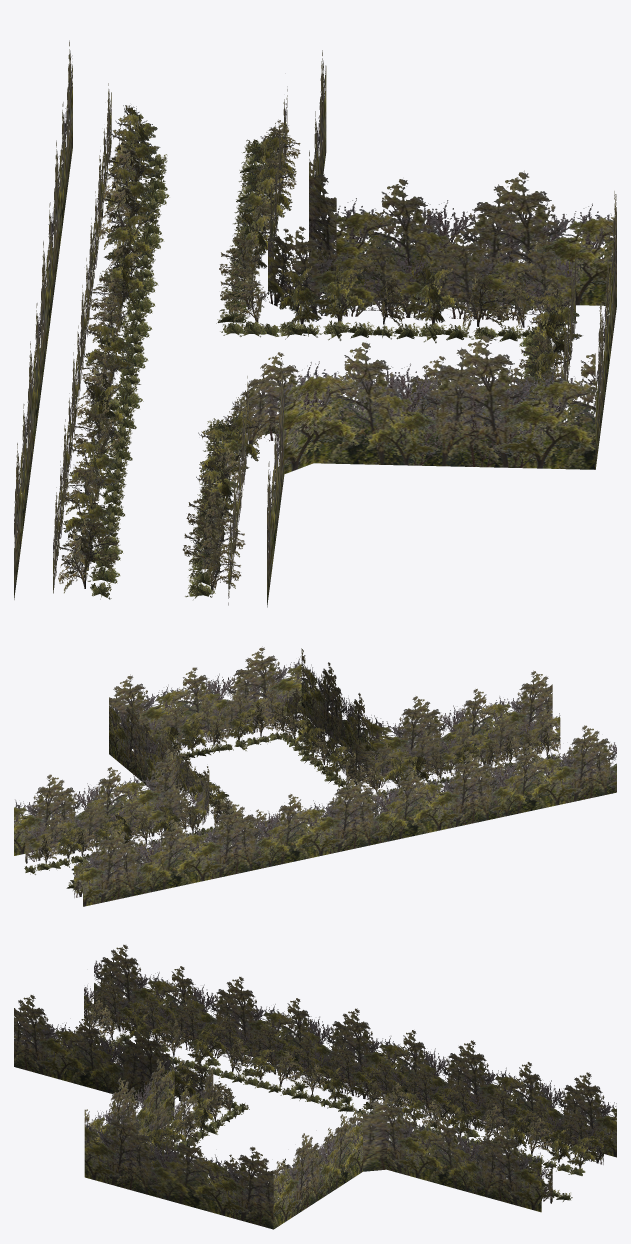
File: scene_transparent.gltf
The picture shows the model from 3 angles, top to bottom: view 1: azimuth 30°, elevation 25°; view 2: azimuth 150°, elevation 25°; view 3: azimuth 270°, elevation 25°; orthographic projection. The views are drawn at different scales.
Visible parts, largest first — view 1: Trees_004_Tree_0.045, Trees_004_Tree_0.046, Trees_004_Tree_0.043, Trees_004_Tree_0.001, Trees_004_Tree_0.044; view 2: Trees_004_Tree_0.045, Trees_004_Tree_0.046, Trees_004_Tree_0.043, Trees_004_Tree_0.001, Trees_004_Tree_0.044; view 3: Trees_004_Tree_0.045, Trees_004_Tree_0.046, Trees_004_Tree_0.043, Trees_004_Tree_0.001, Trees_004_Tree_0.044.
Part boxes in pixels (<box>): Trees_004_Tree_0.045: <box>14,40,616,607</box>; Trees_004_Tree_0.046: <box>53,83,575,605</box>; Trees_004_Tree_0.043: <box>58,119,576,594</box>; Trees_004_Tree_0.001: <box>62,105,582,542</box>; Trees_004_Tree_0.044: <box>70,139,551,599</box>; Trees_004_Tree_0.045: <box>14,646,616,906</box>; Trees_004_Tree_0.046: <box>25,683,604,897</box>; Trees_004_Tree_0.043: <box>38,702,566,865</box>; Trees_004_Tree_0.001: <box>57,709,532,888</box>; Trees_004_Tree_0.044: <box>24,732,558,890</box>; Trees_004_Tree_0.045: <box>14,944,616,1229</box>; Trees_004_Tree_0.046: <box>30,978,603,1203</box>; Trees_004_Tree_0.043: <box>67,997,553,1190</box>; Trees_004_Tree_0.001: <box>120,1013,596,1186</box>; Trees_004_Tree_0.044: <box>76,1031,585,1201</box>.
Bounding box in the file's own units: 154 × 28 × 183.
Materials: 5 (5 with a texture image).
